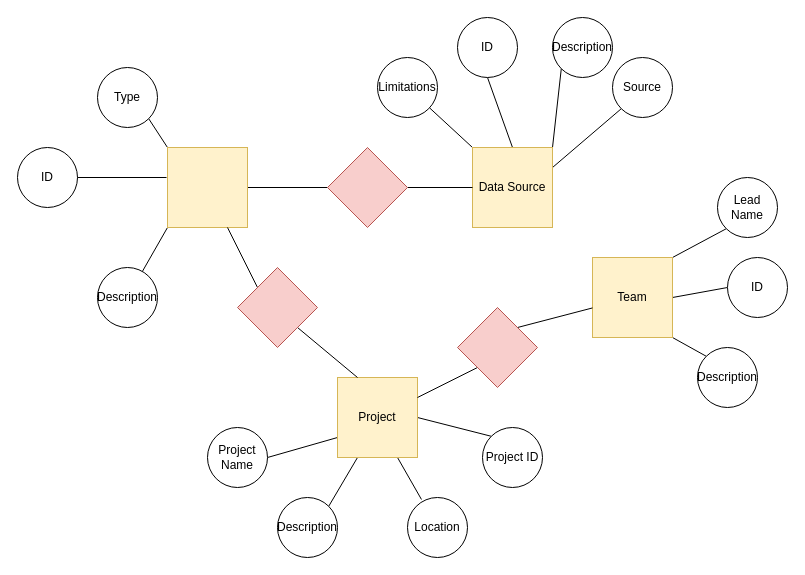
Some shapes in this 805 by 575 pixel diagram are drawn without their labels. The centre of each missing label's shape, as x and y in pixels:
"Activity" belongs at point (497, 347).
"Data" belongs at point (207, 187).
"Sourced From" belongs at point (367, 187).
"Using" belongs at point (277, 307).
